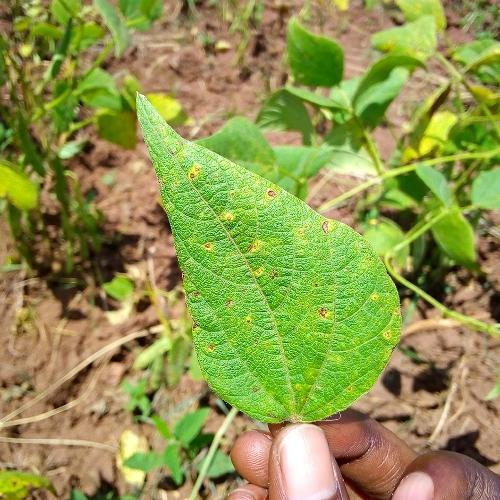hawar: (237, 222, 276, 296), (304, 292, 344, 332), (178, 156, 206, 196), (307, 214, 344, 238)
